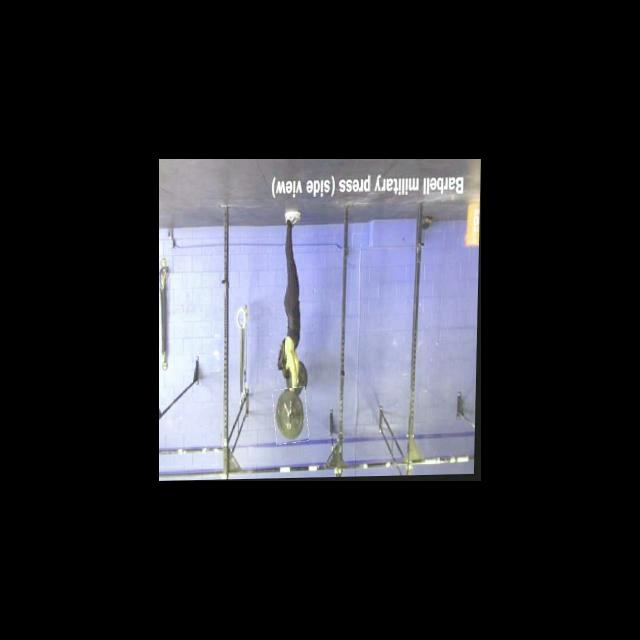barbell: (273, 387, 310, 445)
